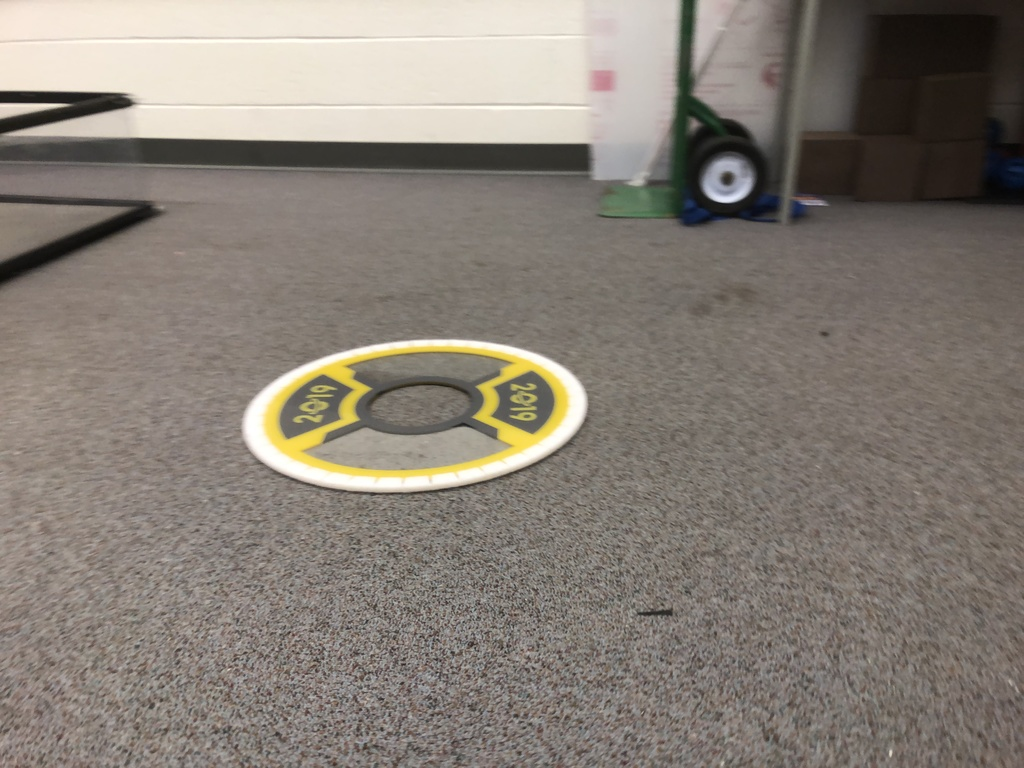hatch_panel: (228, 322, 603, 499)
